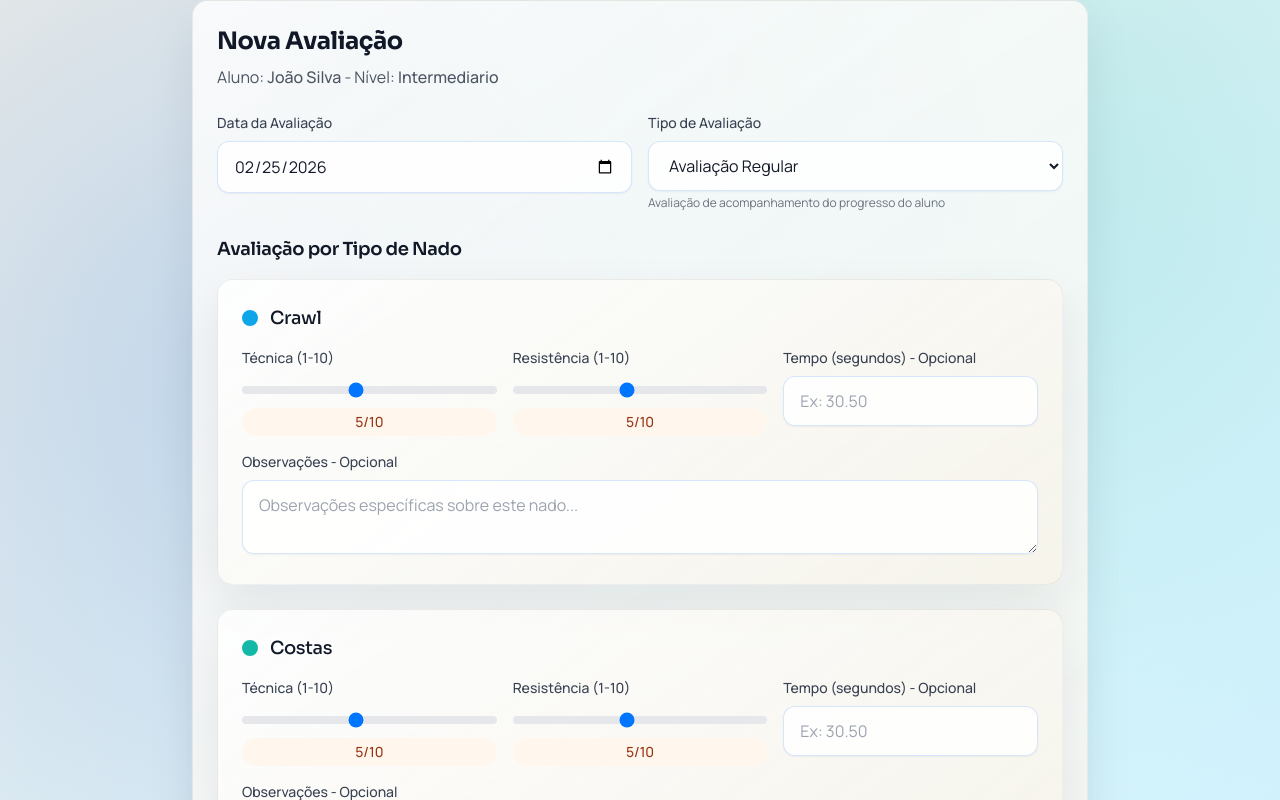
EvaluationForm › should update stroke evaluation scores
// Find technique sliders and update them
Set the 1st slider showing "5" to "8" at [436, 390], box x1=242 y1=386 x2=497 y2=394
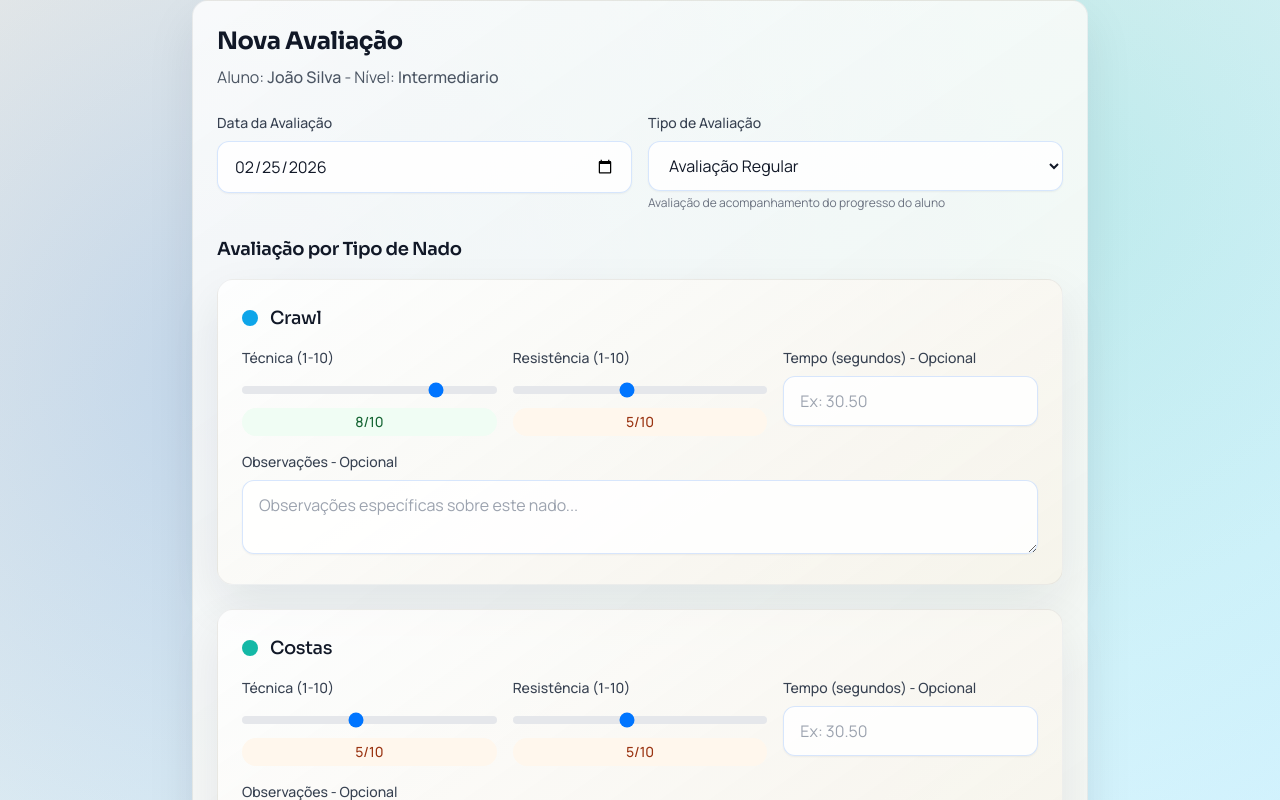
Check: the text "8/10" is shown, box x1=242 y1=408 x2=497 y2=436
